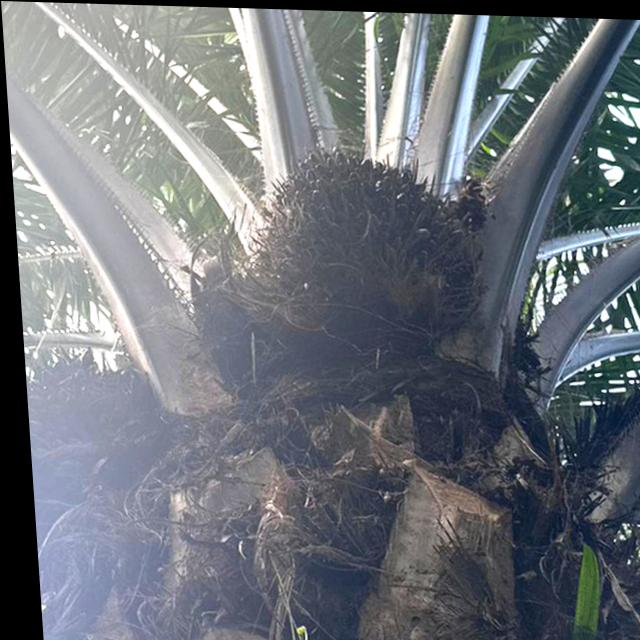unripe: (231, 138, 484, 332)
